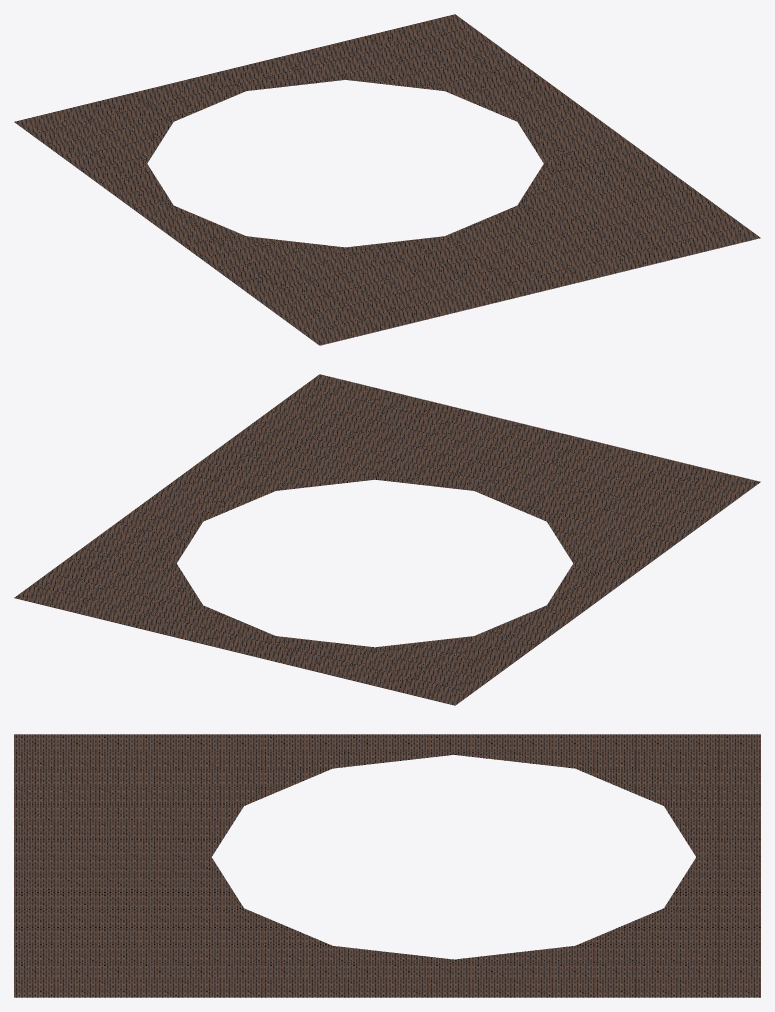
File: CEIL_SEE_THROUGH_SPECIFIC_NO_COLLISION.001.glb
3 views of the same model, one above another, from view 1: azimuth 30°, elevation 25°; view 2: azimuth 150°, elevation 25°; view 3: azimuth 270°, elevation 25° (orthographic). The views are drawn at different scales.
Parts seen in each view (by area): view 1: CEIL_SEE_THROUGH_SPECIFIC_NO_COLLISION.001; view 2: CEIL_SEE_THROUGH_SPECIFIC_NO_COLLISION.001; view 3: CEIL_SEE_THROUGH_SPECIFIC_NO_COLLISION.001.
Part boxes in pixels (<box>): CEIL_SEE_THROUGH_SPECIFIC_NO_COLLISION.001: <box>14,14,760,345</box>; CEIL_SEE_THROUGH_SPECIFIC_NO_COLLISION.001: <box>14,374,760,705</box>; CEIL_SEE_THROUGH_SPECIFIC_NO_COLLISION.001: <box>14,734,760,997</box>.
Bounding box in the file's own units: 30 × 0.01 × 36.
1 material, 1 textured.
